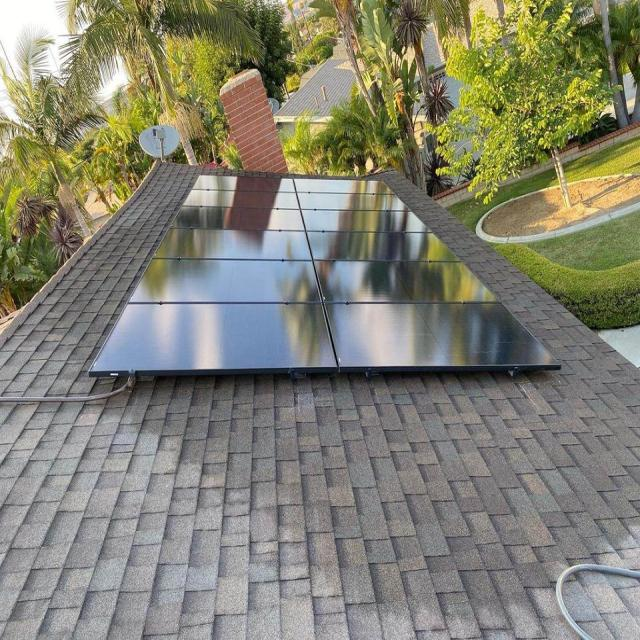dust-solar-panel: (90, 173, 560, 376)
